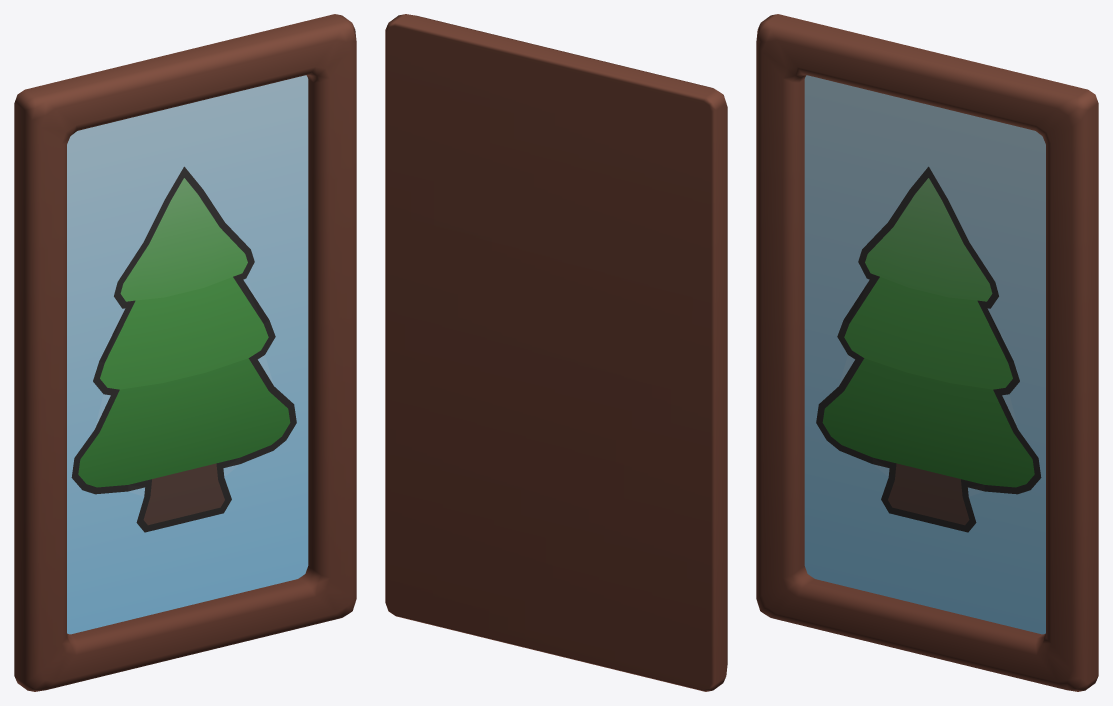
File: Painting_001.fbx
3 renders of one model, left to right at view 1: azimuth 30°, elevation 25°; view 2: azimuth 150°, elevation 25°; view 3: azimuth 330°, elevation 25°, orthographic.
Visible parts, largest first — view 1: Painting_001; view 2: Painting_001; view 3: Painting_001.
Boxes of the visible parts, <box> form: Painting_001: <box>14,14,356,691</box>; Painting_001: <box>385,14,727,691</box>; Painting_001: <box>756,14,1098,691</box>.
Size of the model in its own units: 0.64 by 1.1 by 0.06.
